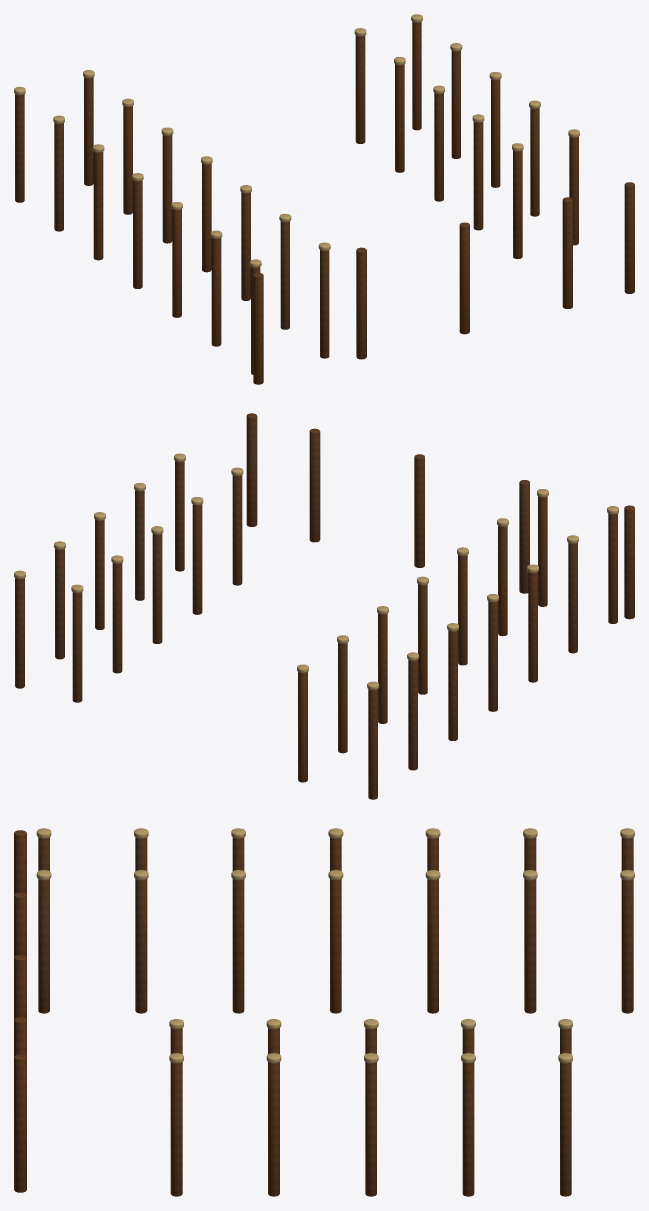
Rendered from Pier_Piles.fbx.
The picture shows the model from 3 angles, top to bottom: view 1: azimuth 30°, elevation 25°; view 2: azimuth 150°, elevation 25°; view 3: azimuth 270°, elevation 25°; orthographic projection. The views are drawn at different scales.
Parts seen in each view (by area): view 1: Pier_Piles; view 2: Pier_Piles; view 3: Pier_Piles.
Boxes of the visible parts, left/top/right/bottom form: Pier_Piles: left=14, top=14, right=634, bottom=384; Pier_Piles: left=14, top=413, right=634, bottom=799; Pier_Piles: left=14, top=828, right=634, bottom=1196.
Size of the model in its own units: 1884 by 2107 by 521.
